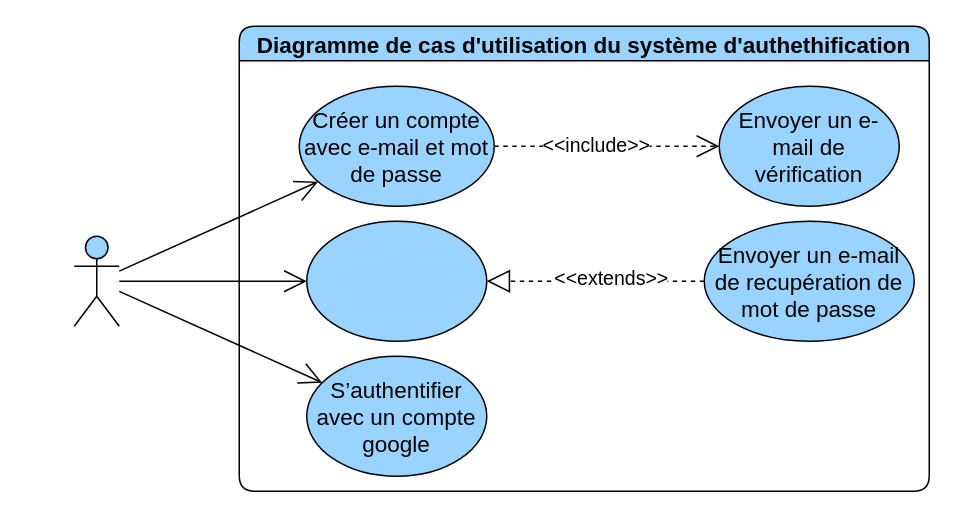
Image size: 956x518. Some labels were removed from this diagram. Here are the shapes that lost their labels. From the top down, the centre of each, then its label:
At (96,280): "Utilisateur (tout les roles)".
At (396,280): "S’authentifier avec e-mail et mot de passe".
